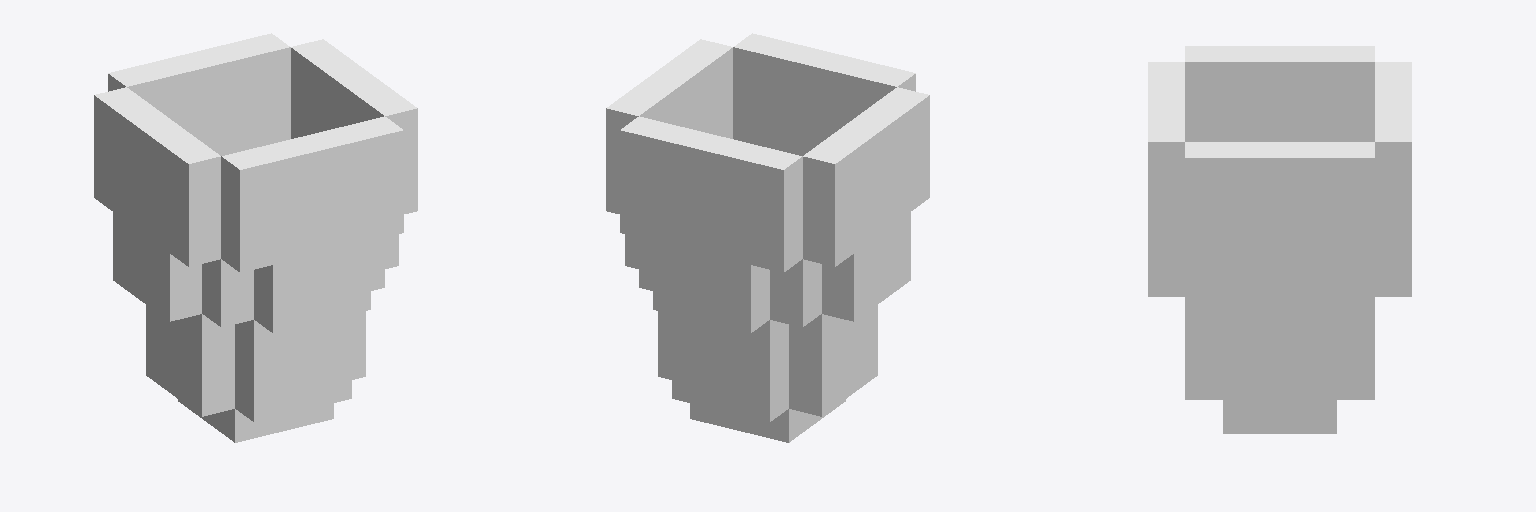
Rendered from dustbin.obj.
3 renders of one model, left to right at view 1: azimuth 30°, elevation 25°; view 2: azimuth 150°, elevation 25°; view 3: azimuth 270°, elevation 25°, orthographic.
Parts seen in each view (by area): view 1: dustbin; view 2: dustbin; view 3: dustbin.
Part boxes in pixels (x1,y1,x2,y2): dustbin: (94,33,417,442); dustbin: (606,33,929,442); dustbin: (1148,46,1411,433).
Size of the model in its own units: 1.4 by 1.8 by 1.4.